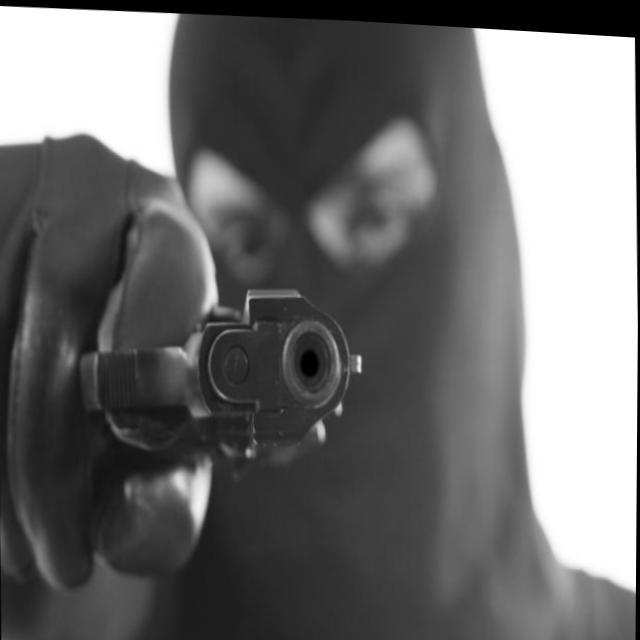weapon: (81, 260, 397, 498)
